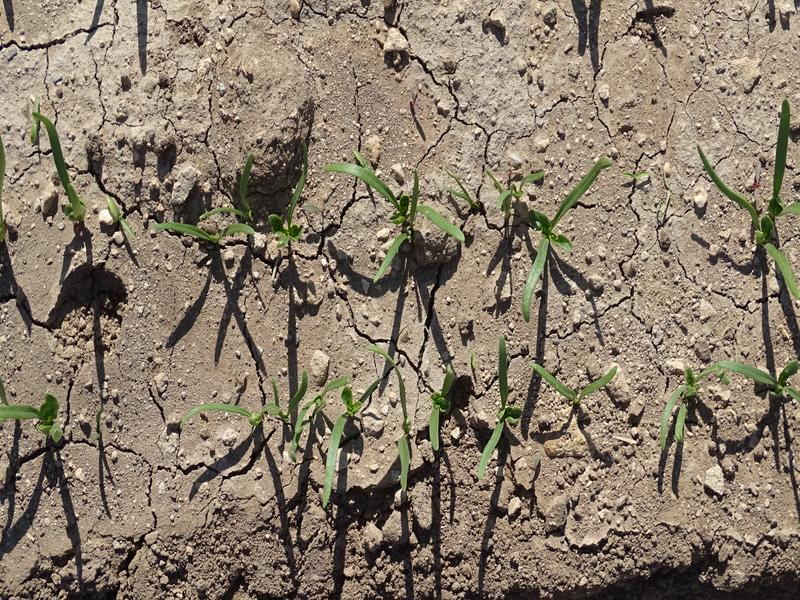Espinaca: (173, 361, 457, 504), (693, 110, 800, 301), (494, 154, 615, 322), (325, 154, 461, 278), (659, 359, 800, 451), (160, 158, 260, 247), (23, 104, 88, 225), (475, 339, 513, 475), (272, 166, 317, 249), (531, 366, 619, 401), (1, 392, 64, 436)
